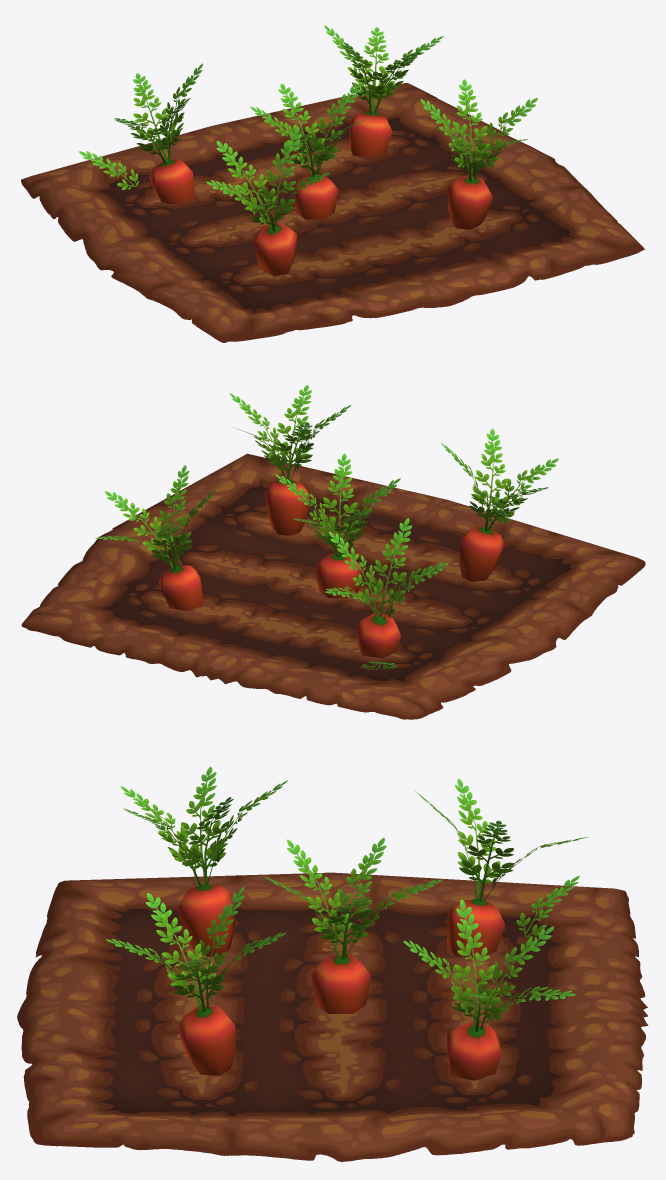
The model's file is Field_01b.FBX.
3 renders of one model, top to bottom at view 1: azimuth 30°, elevation 25°; view 2: azimuth 150°, elevation 25°; view 3: azimuth 270°, elevation 25°, orthographic. The views are drawn at different scales.
Parts seen in each view (by area): view 1: Field_01b; view 2: Field_01b; view 3: Field_01b.
Part boxes in pixels (bbox=[...]): Field_01b: bbox=[21, 25, 645, 342]; Field_01b: bbox=[21, 385, 645, 719]; Field_01b: bbox=[17, 766, 648, 1161].
Size of the model in its own units: 2.96 by 1.05 by 2.74.
